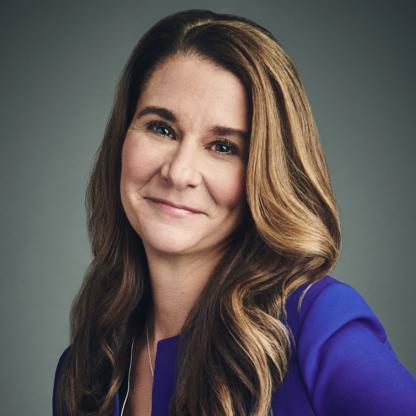Without Helmet: (79, 8, 342, 282)
